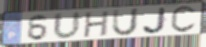6: (27, 14, 50, 42)
C: (170, 5, 198, 34)
H: (82, 10, 111, 39)
J: (141, 7, 169, 35)
U: (52, 10, 82, 41), (111, 7, 141, 38)
